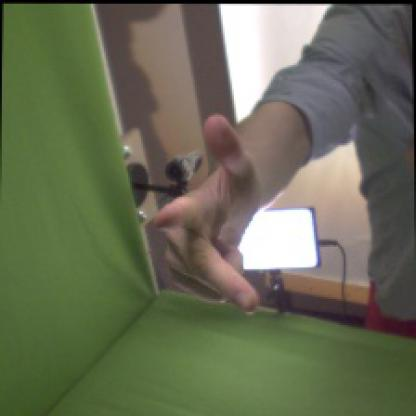Hand: (150, 115, 260, 313)
